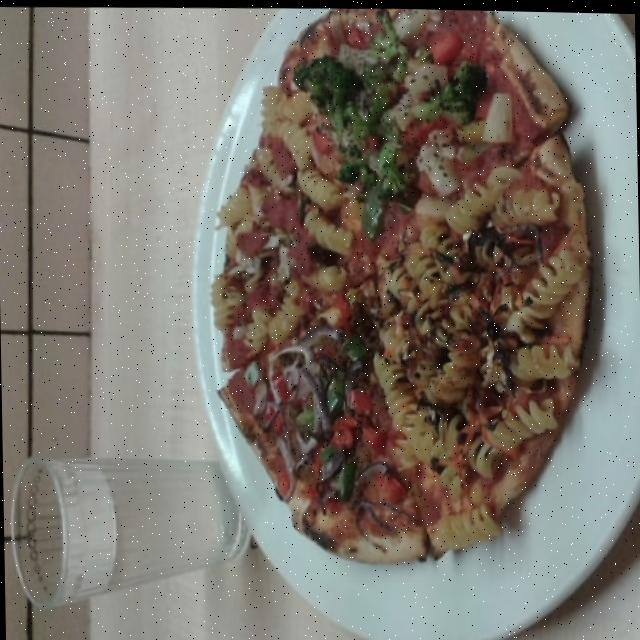pepperoni: (262, 189, 299, 230), (265, 133, 293, 179), (239, 164, 273, 192), (293, 226, 312, 275), (238, 227, 268, 254)
pizza: (205, 4, 593, 567)
tomatoes: (366, 468, 402, 504), (432, 24, 463, 59), (358, 423, 389, 455), (330, 418, 356, 445), (348, 386, 372, 414)
